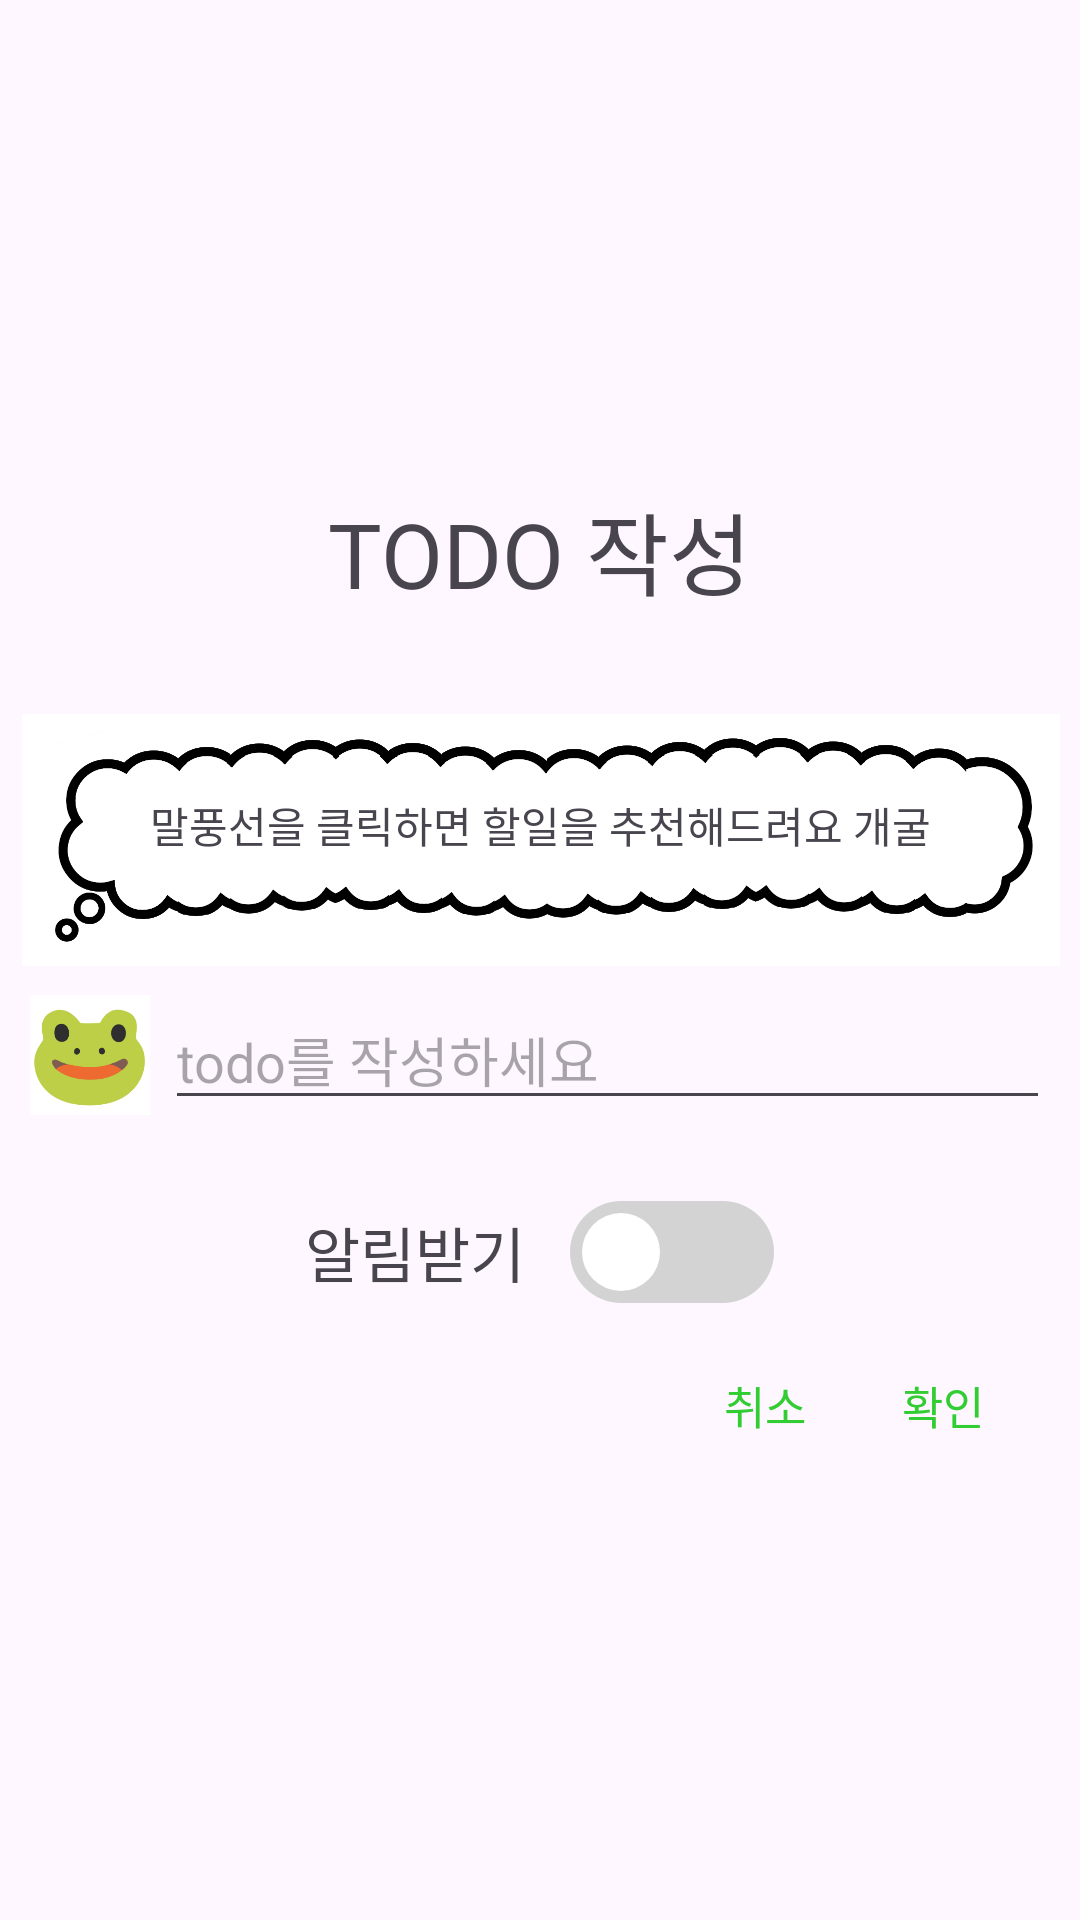

Screen size 1080px×1920px. Icon name, then its box in pixels as box(x1, y1, x2, y2):
cutefrog: box(34, 1009, 145, 1106)
